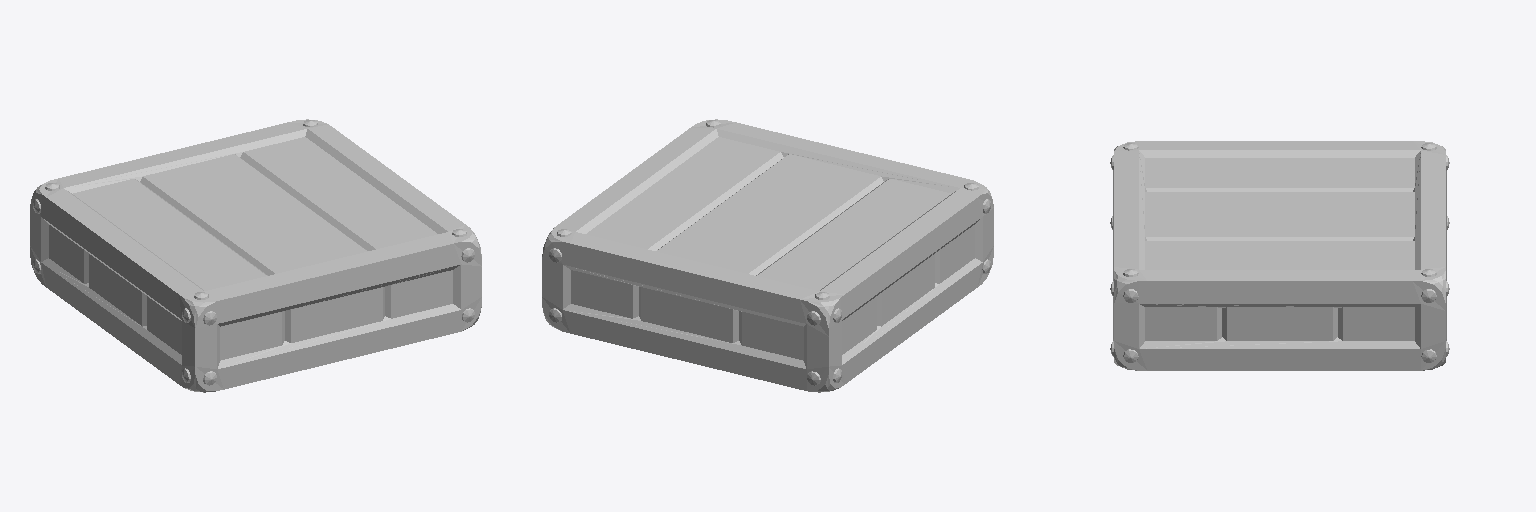
File: cratePlatform_small.obj
3 views of the same model, side by side, from view 1: azimuth 30°, elevation 25°; view 2: azimuth 150°, elevation 25°; view 3: azimuth 270°, elevation 25° (orthographic).
Visible parts, largest first — view 1: cratePlatform_small_Cube.2833; view 2: cratePlatform_small_Cube.2833; view 3: cratePlatform_small_Cube.2833.
Boxes of the visible parts, <box> form: cratePlatform_small_Cube.2833: <box>30,119,481,392</box>; cratePlatform_small_Cube.2833: <box>542,119,993,392</box>; cratePlatform_small_Cube.2833: <box>1110,141,1449,370</box>.
Size of the model in its own units: 2.05 by 0.6521 by 2.05.